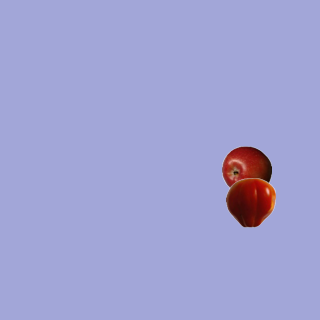Apple Braeburn: (221, 145, 271, 195)
Tomato 1: (225, 177, 275, 227)
